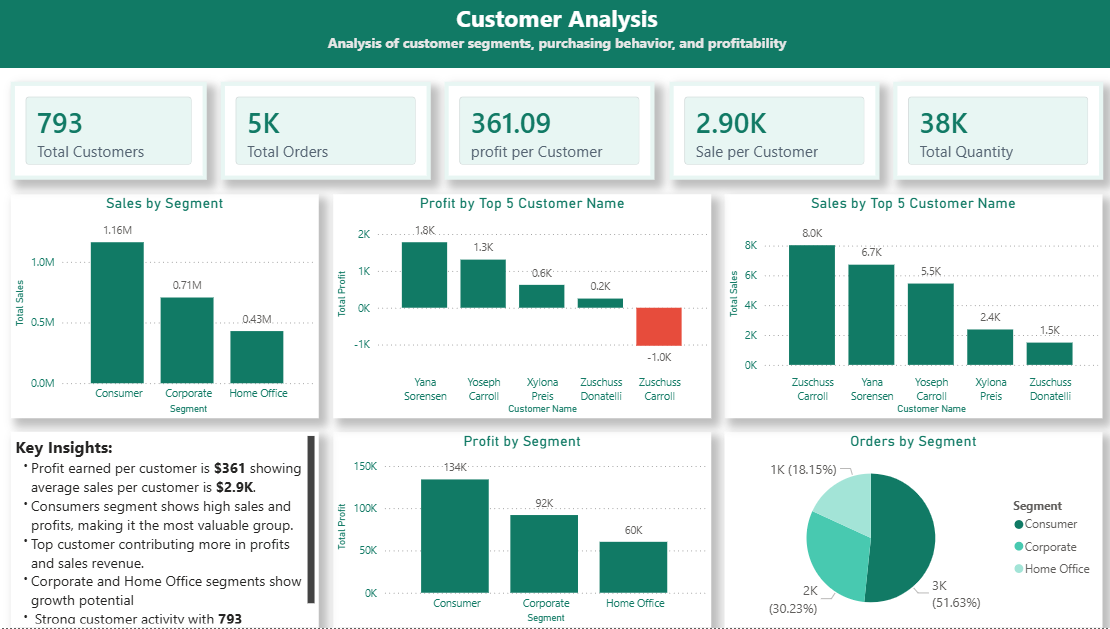

Layout of this report page (visuals, bound fields, positions):
{"tool":"powerbi","page":{"name":"Customer Analysis","canvas":[1280,720],"ordinal":2},"visuals":[{"type":"textbox","box":[0,0,1280,80],"z":0},{"type":"clusteredColumnChart","title":"Sales by Segment","fields":{"Category":["Sample - Superstore.Segment"],"Y":["Sample - Superstore.Total Sales"]},"box":[16,224,352,256],"z":1000},{"type":"clusteredColumnChart","title":"Profit by Segment","fields":{"Category":["Sample - Superstore.Segment"],"Y":["Sample - Superstore.Total Profit"]},"box":[384,496,432,224],"z":2000},{"type":"pieChart","title":"Orders by Segment","fields":{"Category":["Sample - Superstore.Segment"],"Y":["Sample - Superstore.Total Orders"]},"box":[832,496,432,224],"z":3000},{"type":"cardVisual","fields":{"Data":["Sample - Superstore.Total Customers"]},"box":[16,96,224,112],"z":4000},{"type":"cardVisual","fields":{"Data":["Sample - Superstore.Total Orders"]},"box":[256,96,240,112],"z":5000},{"type":"cardVisual","fields":{"Data":["Sample - Superstore.profit per Customer"]},"box":[512,96,240,112],"z":6000},{"type":"cardVisual","fields":{"Data":["Sample - Superstore.Sale per Customer"]},"box":[768,96,240,112],"z":7000},{"type":"clusteredColumnChart","title":"Sales by Top 5 Customer Name","fields":{"Category":["Sample - Superstore.Customer Name"],"Y":["Sample - Superstore.Total Sales"]},"box":[832,224,432,256],"z":8000},{"type":"cardVisual","fields":{"Data":["Sample - Superstore.Total Quantity"]},"box":[1024,96,240,112],"z":9000},{"type":"clusteredColumnChart","title":"Profit by Top 5 Customer Name","fields":{"Category":["Sample - Superstore.Customer Name"],"Y":["Sample - Superstore.Total Profit"]},"box":[384,224,432,256],"z":10000},{"type":"textbox","box":[16,496,352,224],"z":11000}]}

Visuals, with their boxes in screenshot pixels (x1, y1, x2, y2), scaled from the page's 1280x720 canvas onto the 1110x629 screenshot:
textbox: [0, 0, 1109, 70]
"Sales by Segment" clusteredColumnChart: [14, 196, 319, 419]
"Profit by Segment" clusteredColumnChart: [333, 433, 708, 628]
"Orders by Segment" pieChart: [722, 433, 1096, 628]
cardVisual - Sample - Superstore.Total Customers: [14, 84, 208, 182]
cardVisual - Sample - Superstore.Total Orders: [222, 84, 430, 182]
cardVisual - Sample - Superstore.profit per Customer: [444, 84, 652, 182]
cardVisual - Sample - Superstore.Sale per Customer: [666, 84, 874, 182]
"Sales by Top 5 Customer Name" clusteredColumnChart: [722, 196, 1096, 419]
cardVisual - Sample - Superstore.Total Quantity: [888, 84, 1096, 182]
"Profit by Top 5 Customer Name" clusteredColumnChart: [333, 196, 708, 419]
textbox: [14, 433, 319, 628]
